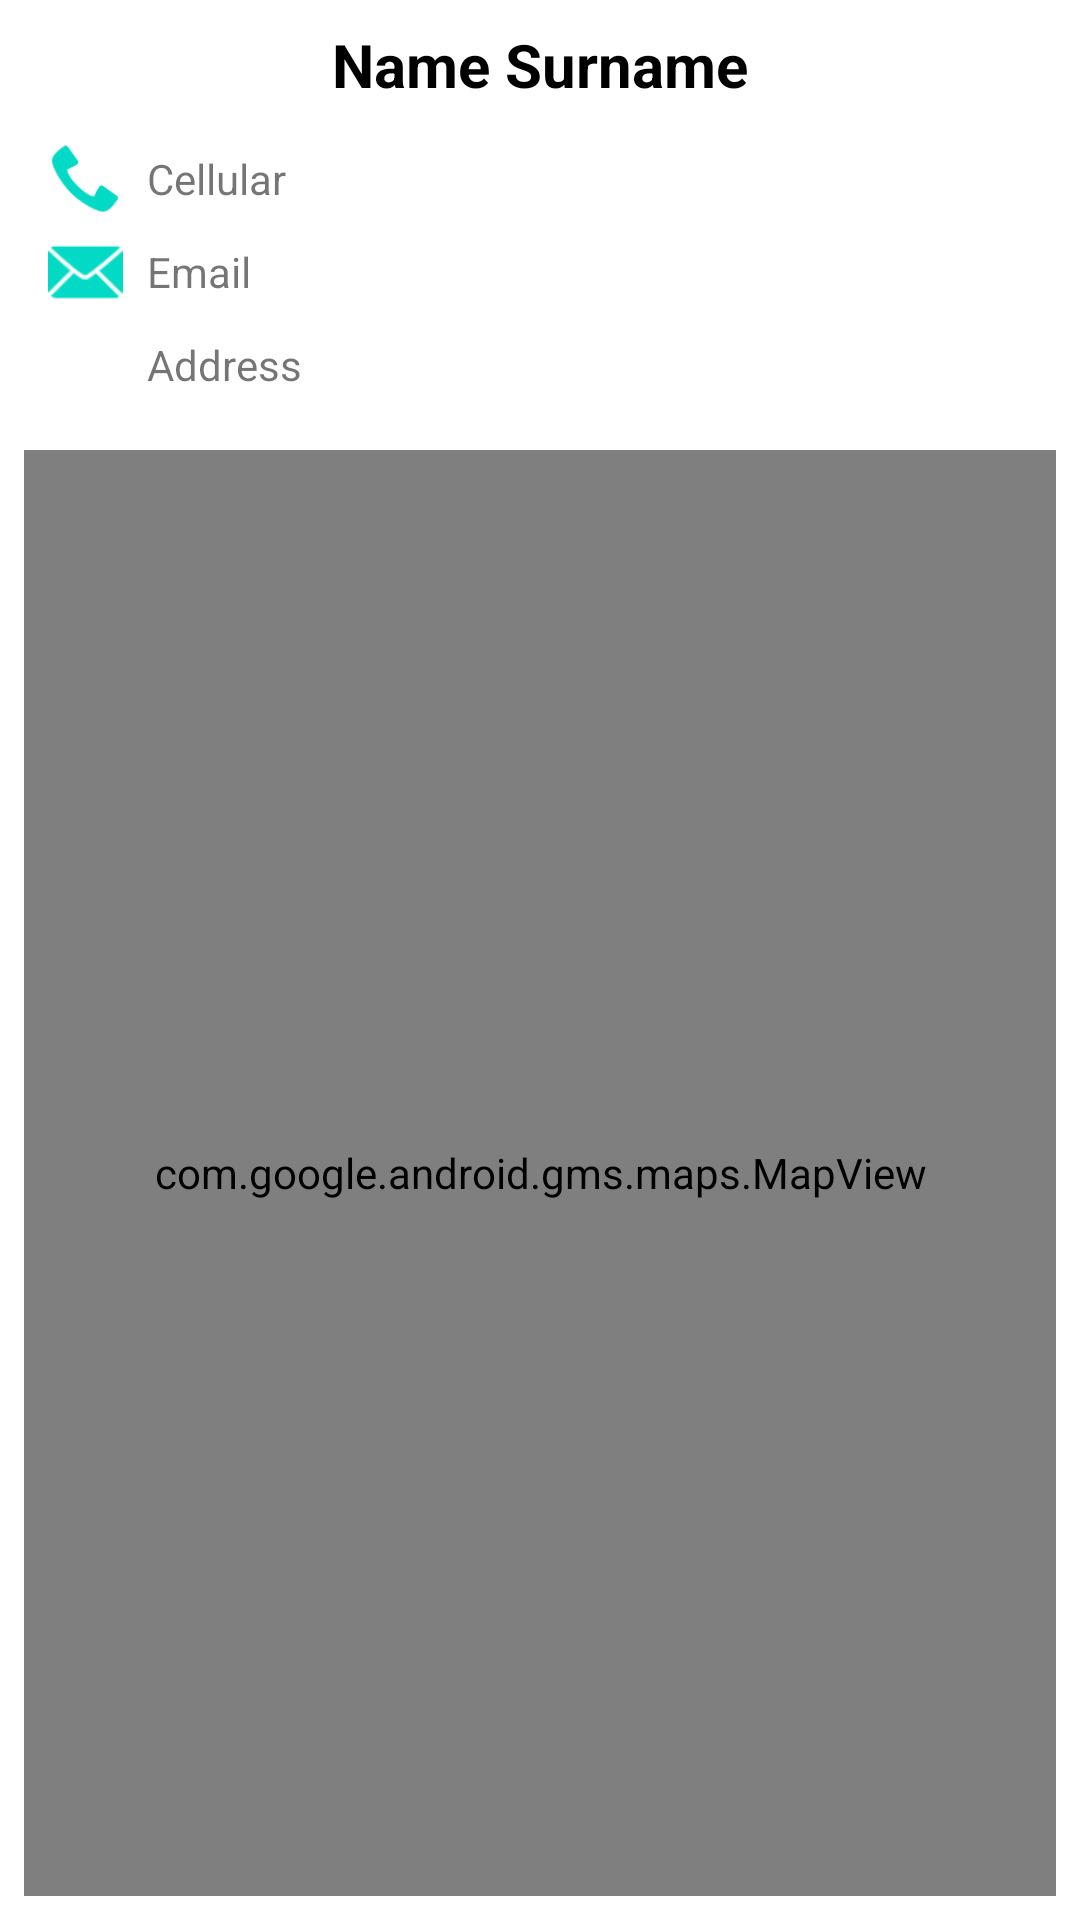

Locate icon controls on the screen. Image size 1080px×1920px, boxes as box=[x1, y1, x2, y2].
phone call: box=[52, 145, 119, 212]
